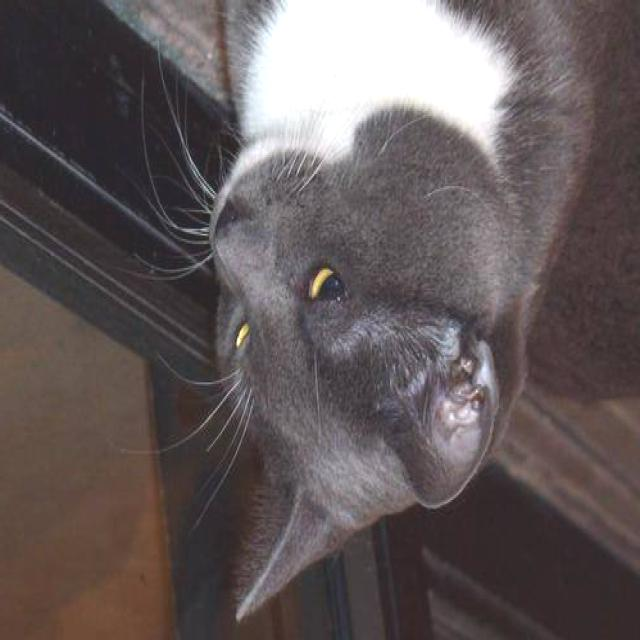Kucing: (83, 39, 556, 613)
